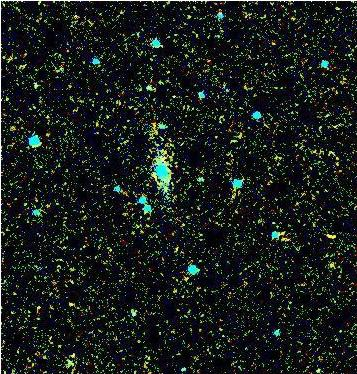star: (318, 251, 348, 281)
